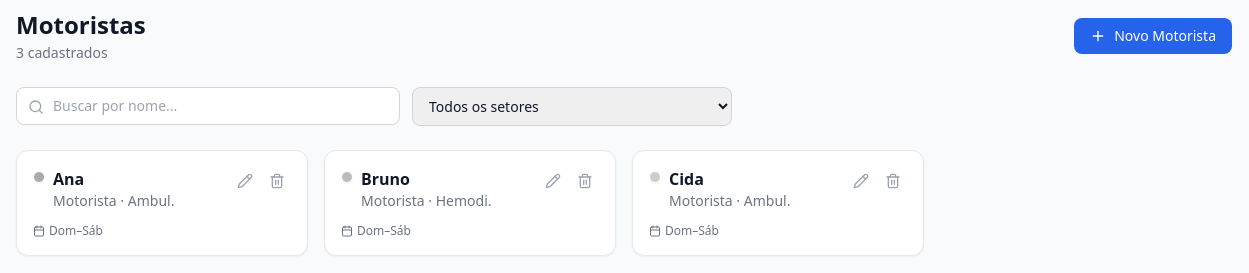
Test case: EmployeesPage — botão Limpar filtros › botão aparece quando busca por nome está ativa
The image size is (1249, 273).
Type "Ana" into the field with placeholder "Buscar por nome..." at (208,106), box top-left (16, 87), bottom-right (400, 125)
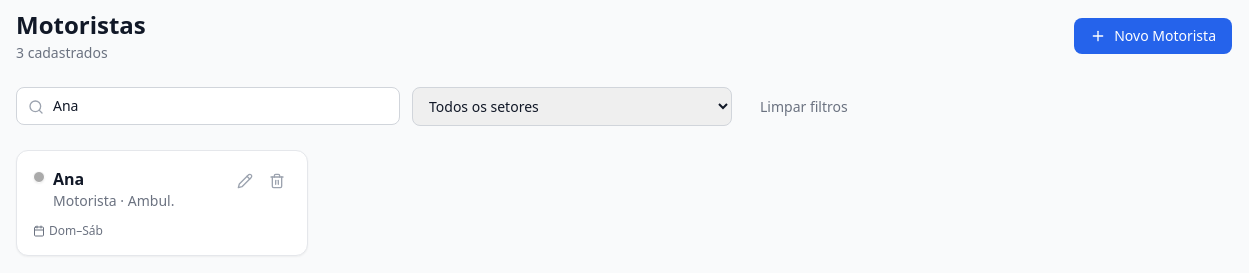
Expected: the button "Limpar filtros" is shown, top-left (744, 87), bottom-right (864, 126)
